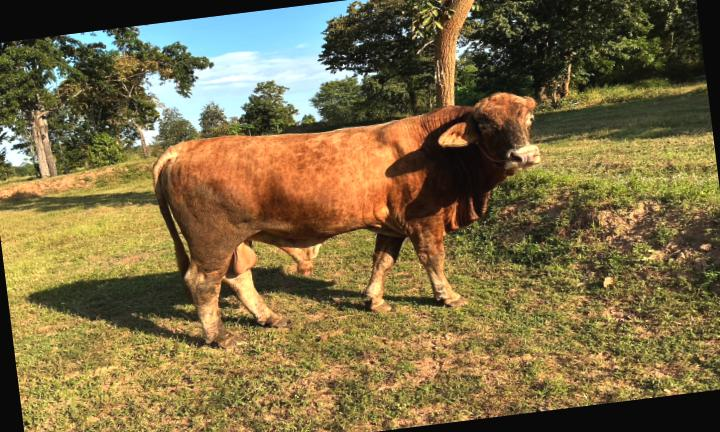Charolais: (153, 93, 540, 347)
